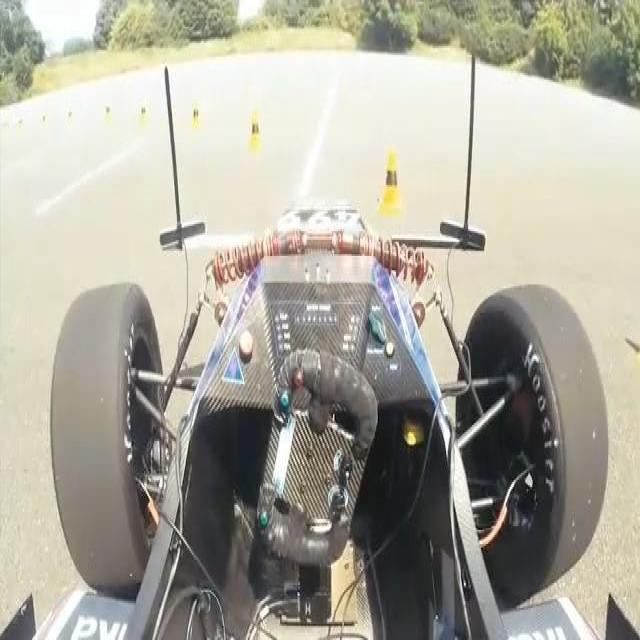yellow_cone: (378, 146, 404, 214), (248, 112, 265, 160), (188, 98, 203, 138), (138, 101, 149, 137), (105, 103, 114, 133), (17, 119, 27, 140), (67, 107, 76, 129), (39, 114, 47, 137)
